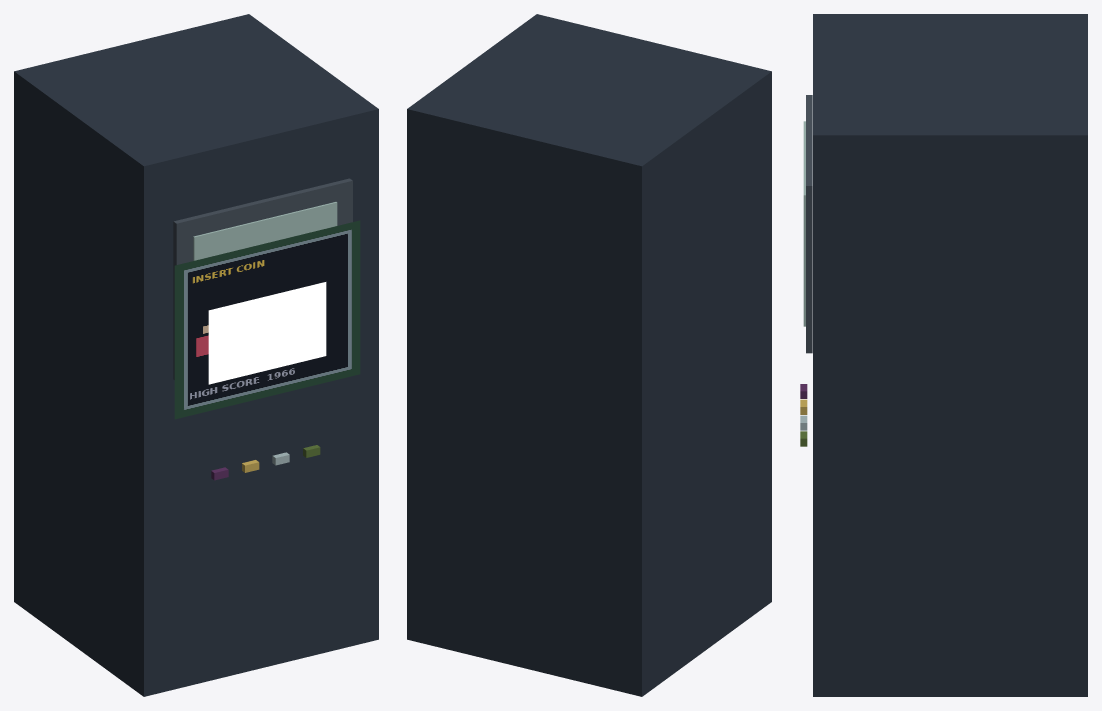
The model's file is arcade_racer.glb.
The picture shows the model from 3 angles, left to right: view 1: azimuth 30°, elevation 25°; view 2: azimuth 150°, elevation 25°; view 3: azimuth 270°, elevation 25°; orthographic projection. The views are drawn at different scales.
Bounding box in the file's own units: 0.8279 × 1.79 × 0.8295.
3 materials, 2 textured.
